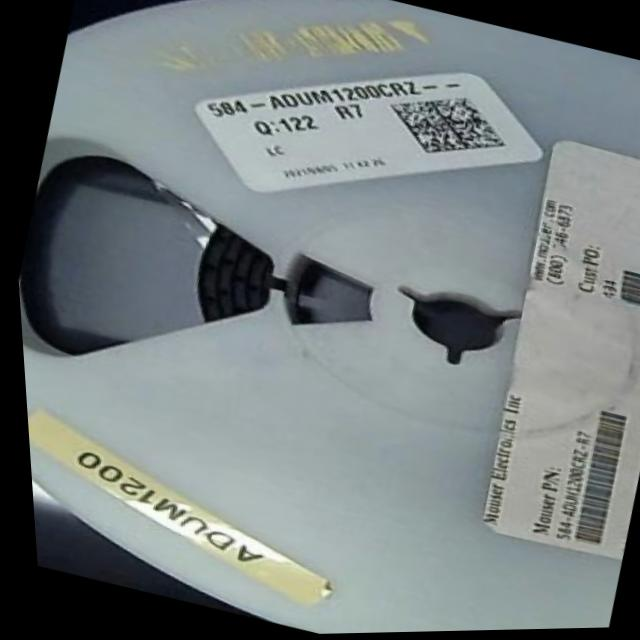datamatrix: (374, 78, 520, 176)
